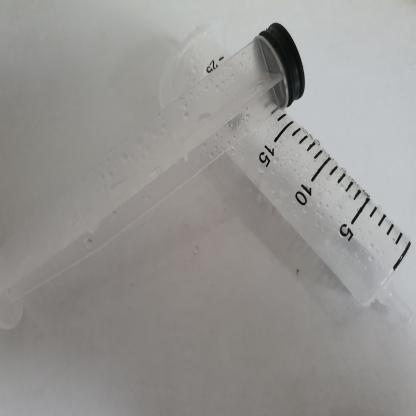wet: (0, 32, 312, 334), (156, 31, 416, 330)
